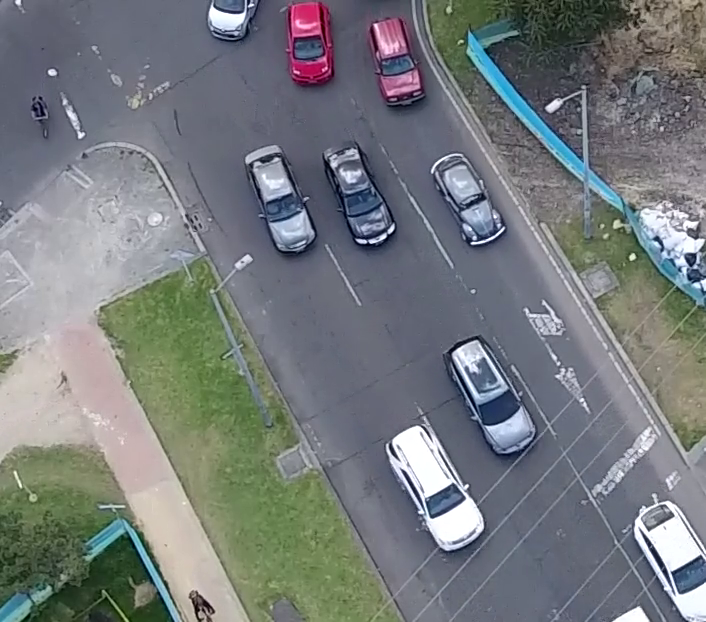car: (384, 423, 488, 553), (443, 334, 537, 459), (318, 137, 399, 254), (425, 146, 510, 255), (240, 142, 319, 257), (364, 12, 428, 110), (281, 0, 336, 88)
